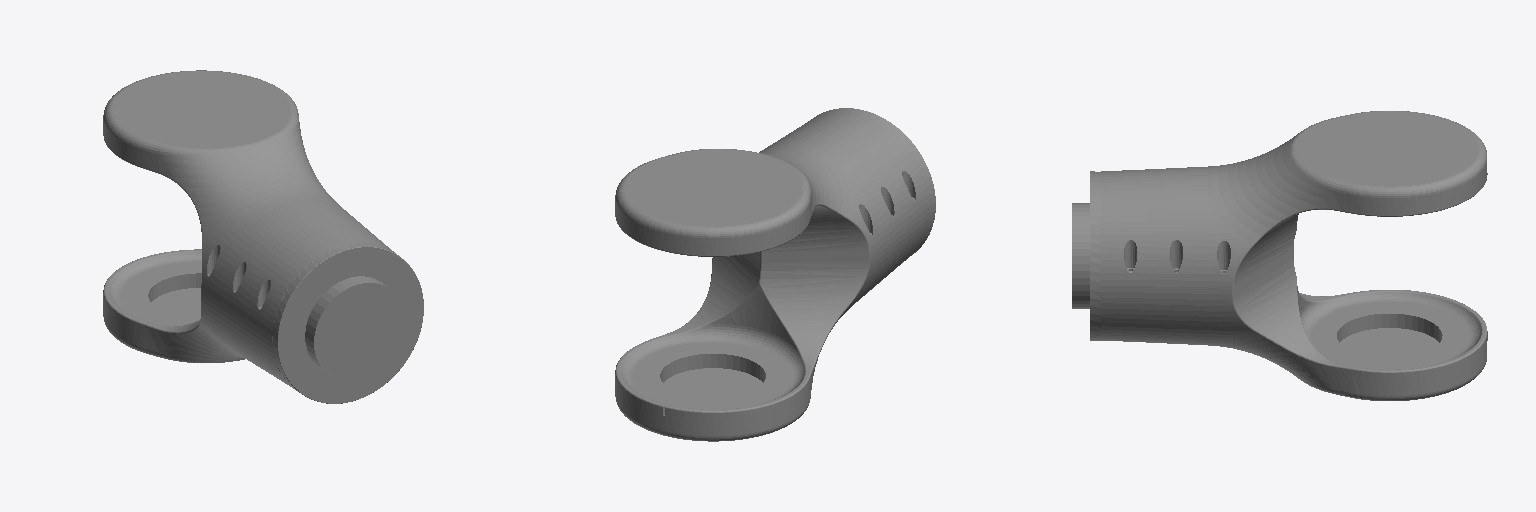
3 views of the same model, side by side, from view 1: azimuth 30°, elevation 25°; view 2: azimuth 150°, elevation 25°; view 3: azimuth 270°, elevation 25° (orthographic).
Parts seen in each view (by area): view 1: AR5-5_07L-W4S4A1-ZY_link2; view 2: AR5-5_07L-W4S4A1-ZY_link2; view 3: AR5-5_07L-W4S4A1-ZY_link2.
Boxes of the visible parts, x1=… form: AR5-5_07L-W4S4A1-ZY_link2: x1=103, y1=70, x2=423, y2=403; AR5-5_07L-W4S4A1-ZY_link2: x1=615, y1=108, x2=935, y2=441; AR5-5_07L-W4S4A1-ZY_link2: x1=1072, y1=111, x2=1487, y2=400.
Bounding box in the file's own units: 0.111 × 0.134 × 0.2355.